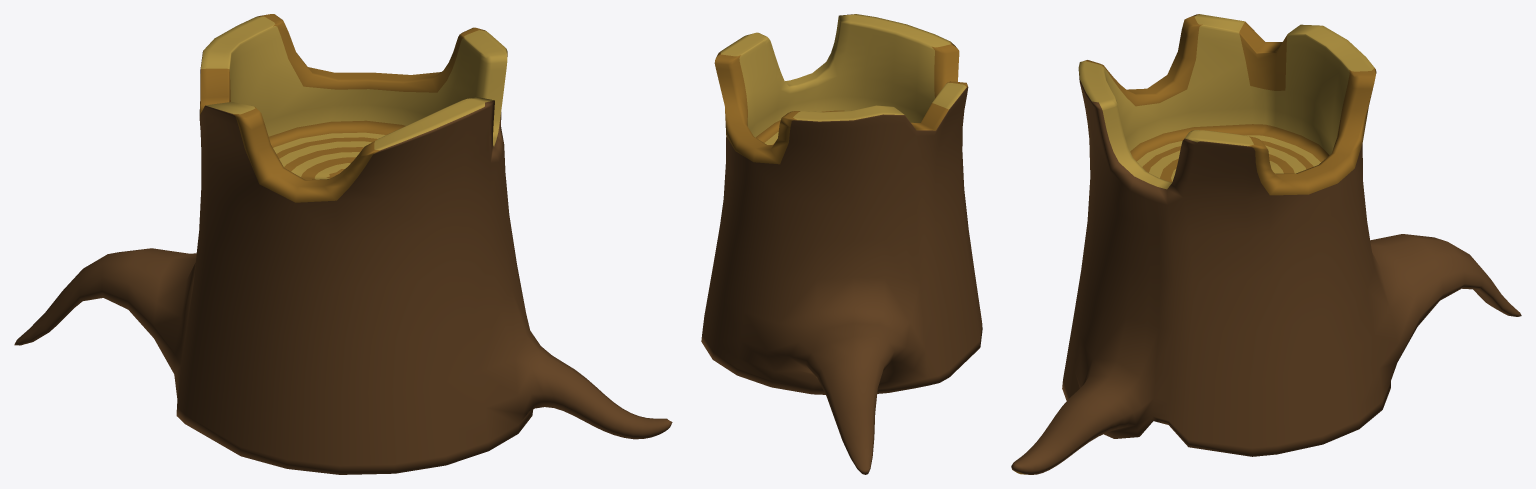
File: toco de arvore.fbx
3 views of the same model, side by side, from view 1: azimuth 30°, elevation 25°; view 2: azimuth 150°, elevation 25°; view 3: azimuth 270°, elevation 25° (orthographic). The views are drawn at different scales.
Parts seen in each view (by area): view 1: Cilindro; view 2: Cilindro; view 3: Cilindro.
Part boxes in pixels (x1,y1,x2,y2): Cilindro: (14, 14, 672, 474); Cilindro: (701, 14, 982, 474); Cilindro: (1011, 14, 1521, 474).
Size of the model in its own units: 343 by 295 by 417.
